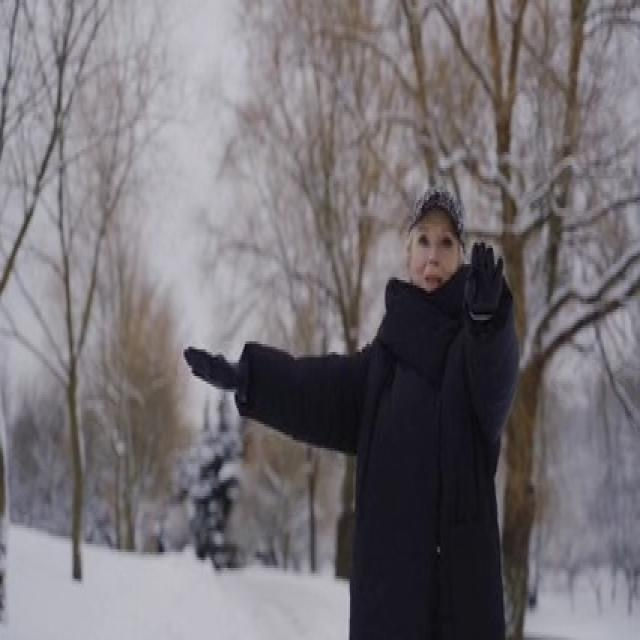Jacket_Wearer: (240, 257, 514, 640)
Person: (242, 180, 514, 640)
